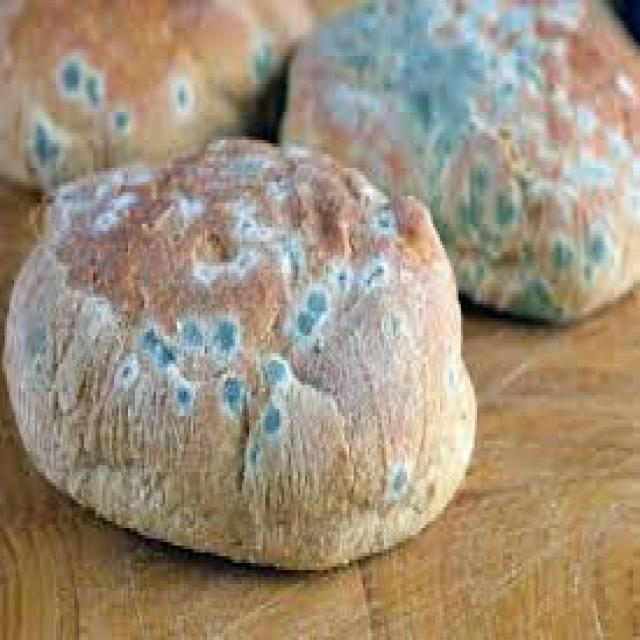Wet Waste: (0, 145, 511, 530), (312, 6, 635, 332), (10, 0, 294, 179)
